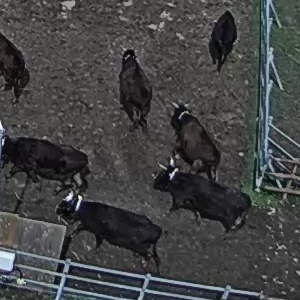cow: (51, 192, 169, 262), (153, 165, 267, 237), (1, 121, 106, 191), (163, 96, 236, 181), (103, 37, 160, 138), (199, 6, 245, 79), (1, 31, 36, 108)
